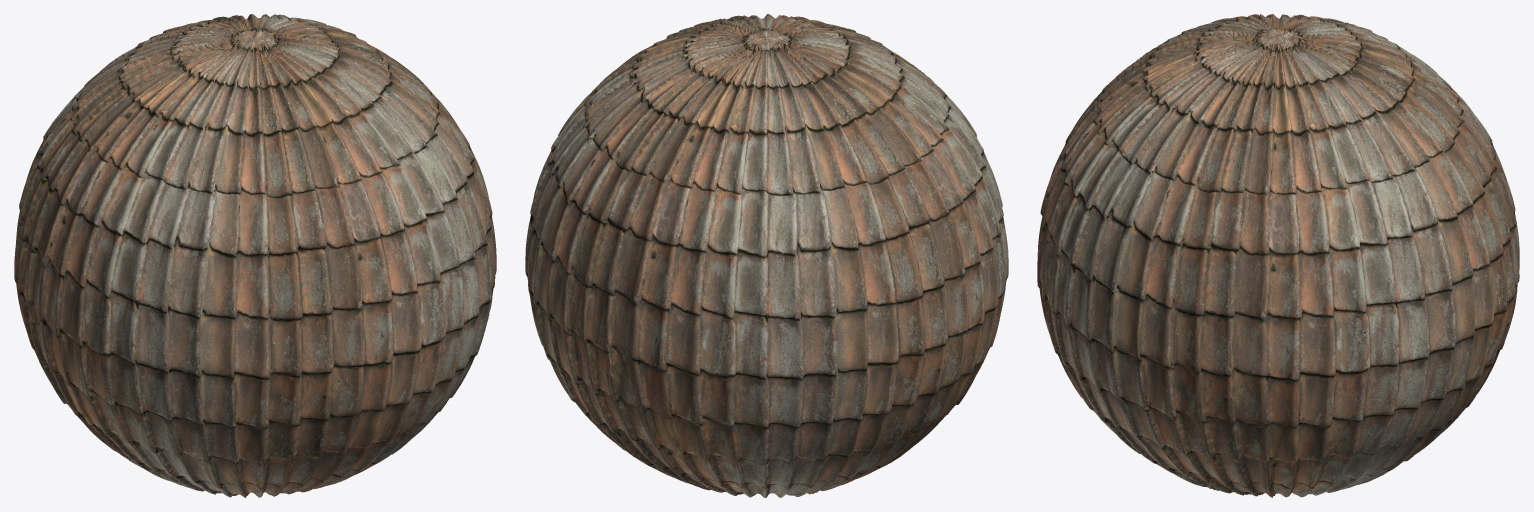
Rendered from roof_09_1k.gltf.
3 views of the same model, side by side, from view 1: azimuth 30°, elevation 25°; view 2: azimuth 150°, elevation 25°; view 3: azimuth 270°, elevation 25° (orthographic).
Visible parts, largest first — view 1: sphere_gltf; view 2: sphere_gltf; view 3: sphere_gltf.
Boxes of the visible parts, bbox=[...] form: sphere_gltf: bbox=[14, 14, 496, 497]; sphere_gltf: bbox=[525, 14, 1008, 497]; sphere_gltf: bbox=[1037, 14, 1519, 497].
Size of the model in its own units: 4.04 by 4.06 by 4.04.
Materials: 1 (1 with a texture image).
